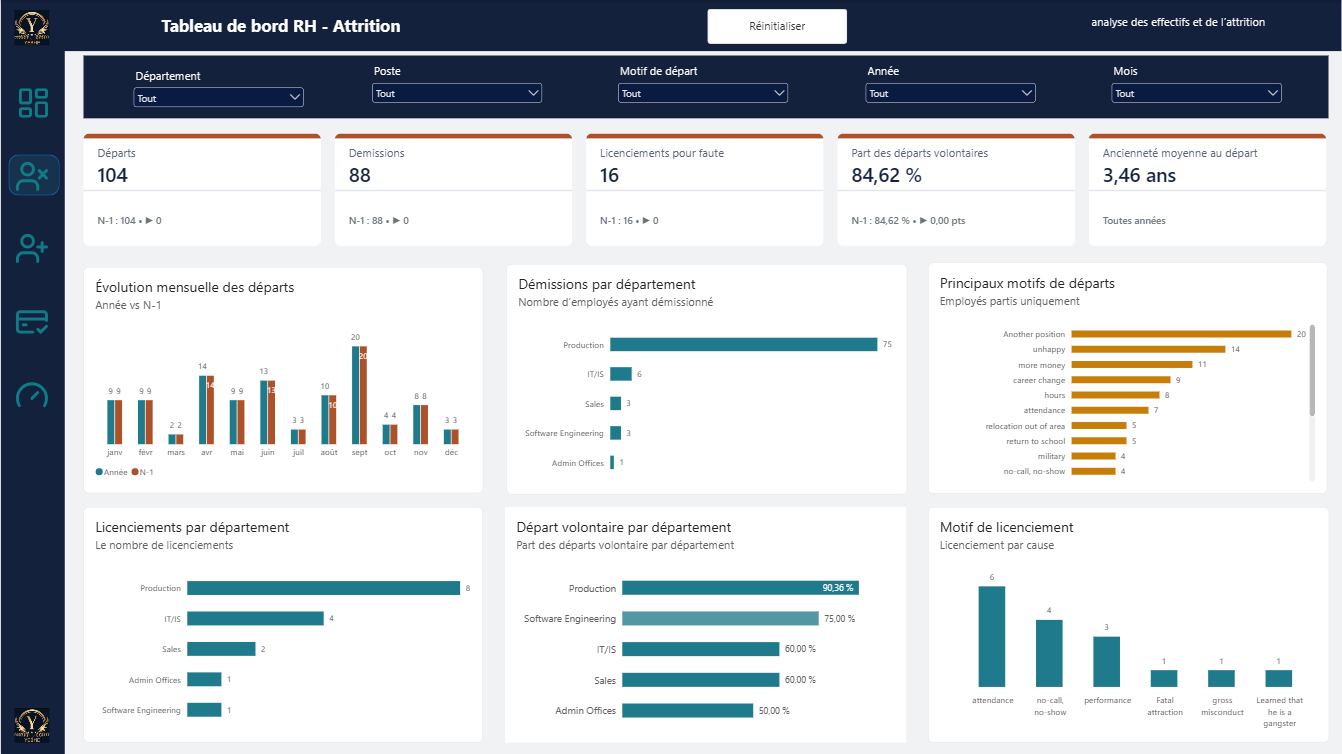

Layout of this report page (visuals, bound fields, positions):
{"tool":"powerbi","page":{"name":"Attrition","canvas":[1920,1080],"ordinal":1},"visuals":[{"type":"image","box":[19.3,15,50,50],"z":0,"group":"g1"},{"type":"shape","box":[117.1,80.5,1783.5,90.3],"z":0},{"type":"shape","box":[0,0,91.5,1080.8],"z":1000},{"type":"image","box":[19.3,1014.1,50,50],"z":1000,"group":"g1"},{"type":"shape","box":[0,0,1920.1,73.2],"z":2000},{"type":"image","box":[21.9,122,50,50],"z":2000,"group":"g1"},{"type":"cardVisual","fields":{"Data":["_Mesures.Nb departs","_Mesures.Demissions","_Mesures.Licenciements","_Mesures.Part des départs volontaires","_Mesures.Anciennete moyenne au depart Texte"]},"box":[117.1,190.3,1783.5,161],"z":3000},{"type":"image","box":[19.5,226.9,50,50],"z":3000,"group":"g1"},{"type":"slicer","fields":{"Values":["dim_date.Month name"]},"box":[1585.9,90.3,253.7,73.2],"z":4000},{"type":"image","box":[19.5,331.8,50,50],"z":4000,"group":"g1"},{"type":"clusteredColumnChart","title":"Évolution mensuelle des départs","fields":{"Category":["dim_date.Month name"],"Y":["_Mesures.Nb departs","_Mesures.Nb departs LY"]},"box":[117.4,382.9,572.9,324.2],"z":5000},{"type":"image","box":[19.5,436.7,50,50],"z":5000,"group":"g1"},{"type":"clusteredBarChart","title":"Démissions par département","fields":{"Category":["dim_department.Department"],"Y":["_Mesures.Demissions"]},"box":[723.2,377.4,574.1,329.9],"z":6000},{"type":"image","box":[19.5,541.6,50,50],"z":6000,"group":"g1"},{"type":"clusteredBarChart","title":"Principaux motifs de départs ","fields":{"Category":["dim_emp_status.TermReason"],"Y":["_Mesures.Nb departs"]},"box":[1327.1,376.2,571.8,331],"z":7000},{"type":"clusteredBarChart","title":"Licenciements par département ","fields":{"Category":["dim_department.Department"],"Y":["_Mesures.Licenciements"]},"box":[117.4,725.3,571.8,337.1],"z":8000},{"type":"clusteredBarChart","title":"Départ volontaire par département","fields":{"Category":["dim_department.Department"],"Y":["_Mesures.Part des départs volontaires"]},"box":[722.3,725.3,574.8,337.1],"z":9000},{"type":"clusteredColumnChart","title":"Motif de licenciement ","fields":{"Category":["dim_emp_status.TermReason"],"Y":["_Mesures.Licenciements"]},"box":[1327.1,725.3,574.8,337.1],"z":10000},{"type":"slicer","fields":{"Values":["dim_date.Year"]},"box":[1232.7,90.3,253.7,73.2],"z":11000},{"type":"slicer","fields":{"Values":["dim_emp_status.TermReason"]},"box":[879.6,90.3,253.7,73.2],"z":12000},{"type":"slicer","fields":{"Values":["dim_position.Position"]},"box":[526.4,90.3,253.7,73.2],"z":13000},{"type":"slicer","fields":{"Values":["dim_department.Department"]},"box":[184.8,96.7,253.7,73.2],"z":14000},{"type":"textbox","box":[138.5,19.8,526.8,34.6],"z":15000},{"type":"actionButton","box":[1011.5,12.4,200,50],"z":16000},{"type":"textbox","box":[1563.1,19.8,301.7,27.2],"z":17000},{"type":"group","id":"g1","title":"Groupe 1","box":[19.3,15,52.6,1049.1],"z":18000},{"type":"shape","box":[9.8,222,73.2,58.6],"z":19000}]}

Visuals, with their boxes on the page's 1920x1080 design canvas (x1, y1, x2, y2). These are canvas units, not pixel positions in the 1342x754 screenshot, which may show the page scaled, cropped or inside an application window:
image: (left=19, top=15, right=69, bottom=65)
shape: (left=117, top=80, right=1901, bottom=171)
shape: (left=0, top=0, right=92, bottom=1081)
image: (left=19, top=1014, right=69, bottom=1064)
shape: (left=0, top=0, right=1920, bottom=73)
image: (left=22, top=122, right=72, bottom=172)
cardVisual - _Mesures.Nb departs x _Mesures.Demissions: (left=117, top=190, right=1901, bottom=351)
image: (left=20, top=227, right=70, bottom=277)
slicer - dim_date.Month name: (left=1586, top=90, right=1840, bottom=164)
image: (left=20, top=332, right=70, bottom=382)
"Évolution mensuelle des départs" clusteredColumnChart: (left=117, top=383, right=690, bottom=707)
image: (left=20, top=437, right=70, bottom=487)
"Démissions par département" clusteredBarChart: (left=723, top=377, right=1297, bottom=707)
image: (left=20, top=542, right=70, bottom=592)
"Principaux motifs de départs " clusteredBarChart: (left=1327, top=376, right=1899, bottom=707)
"Licenciements par département " clusteredBarChart: (left=117, top=725, right=689, bottom=1062)
"Départ volontaire par département" clusteredBarChart: (left=722, top=725, right=1297, bottom=1062)
"Motif de licenciement " clusteredColumnChart: (left=1327, top=725, right=1902, bottom=1062)
slicer - dim_date.Year: (left=1233, top=90, right=1486, bottom=164)
slicer - dim_emp_status.TermReason: (left=880, top=90, right=1133, bottom=164)
slicer - dim_position.Position: (left=526, top=90, right=780, bottom=164)
slicer - dim_department.Department: (left=185, top=97, right=438, bottom=170)
textbox: (left=138, top=20, right=665, bottom=54)
actionButton: (left=1012, top=12, right=1212, bottom=62)
textbox: (left=1563, top=20, right=1865, bottom=47)
"Groupe 1" group: (left=19, top=15, right=72, bottom=1064)
shape: (left=10, top=222, right=83, bottom=281)
